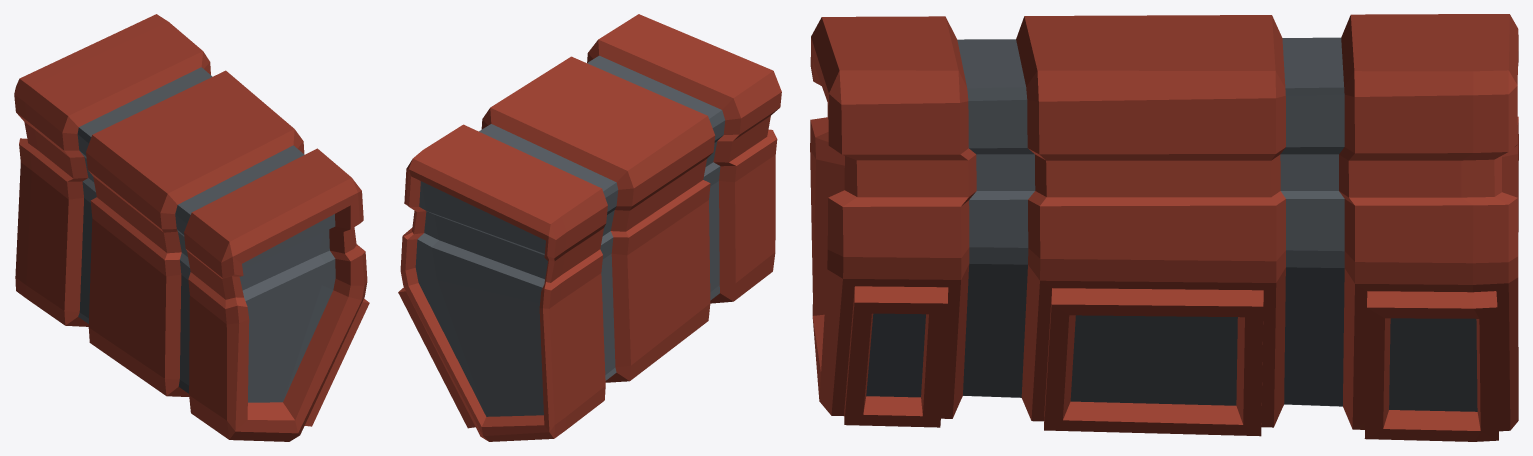
Rendered from Fighter_10_Engine_Left_Red.fbx.
3 views of the same model, side by side, from view 1: azimuth 30°, elevation 25°; view 2: azimuth 150°, elevation 25°; view 3: azimuth 270°, elevation 25° (orthographic). The views are drawn at different scales.
Parts seen in each view (by area): view 1: Fighter_10_Engine_Left_Red; view 2: Fighter_10_Engine_Left_Red; view 3: Fighter_10_Engine_Left_Red.
Boxes of the visible parts, x1,y1,x2,y2 form: Fighter_10_Engine_Left_Red: (14,14,369,441); Fighter_10_Engine_Left_Red: (398,14,781,441); Fighter_10_Engine_Left_Red: (810,14,1518,441).
Bounding box in the file's own units: 403 × 595 × 912.
2 materials, 2 textured.
